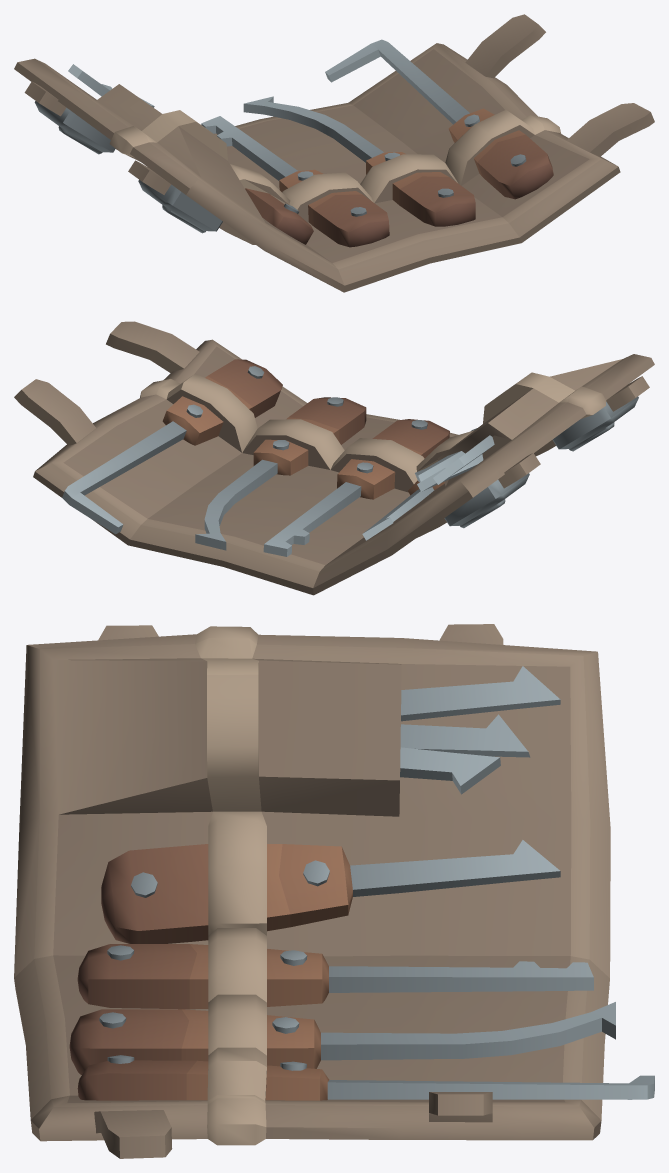
Rendered from lockpick_set.obj.
3 views of the same model, one above another, from view 1: azimuth 30°, elevation 25°; view 2: azimuth 150°, elevation 25°; view 3: azimuth 270°, elevation 25° (orthographic). The views are drawn at different scales.
Visible parts, largest first — view 1: lockpick_set; view 2: lockpick_set; view 3: lockpick_set.
Part boxes in pixels (box(x1,y1,x2,y2)): lockpick_set: box(14, 14, 654, 292); lockpick_set: box(14, 321, 654, 595); lockpick_set: box(14, 624, 654, 1158).
Bounding box in the file's own units: 1.57 × 0.4371 × 1.04.
1 material, 1 textured.
